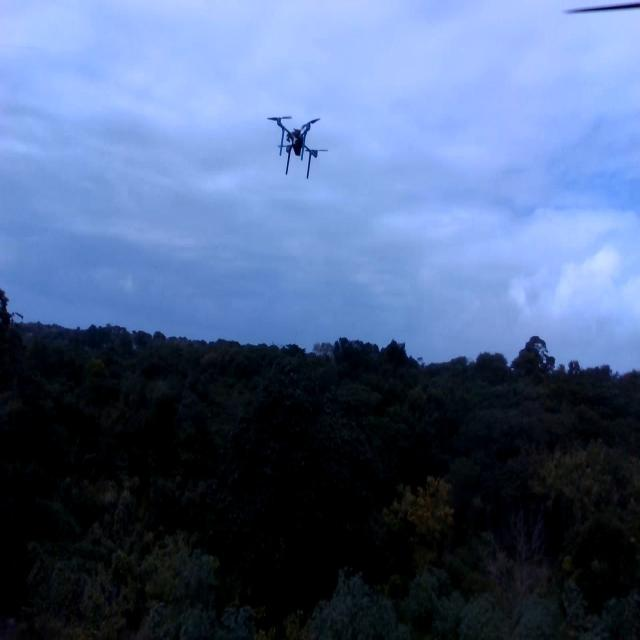-uav-: (266, 101, 332, 191)
